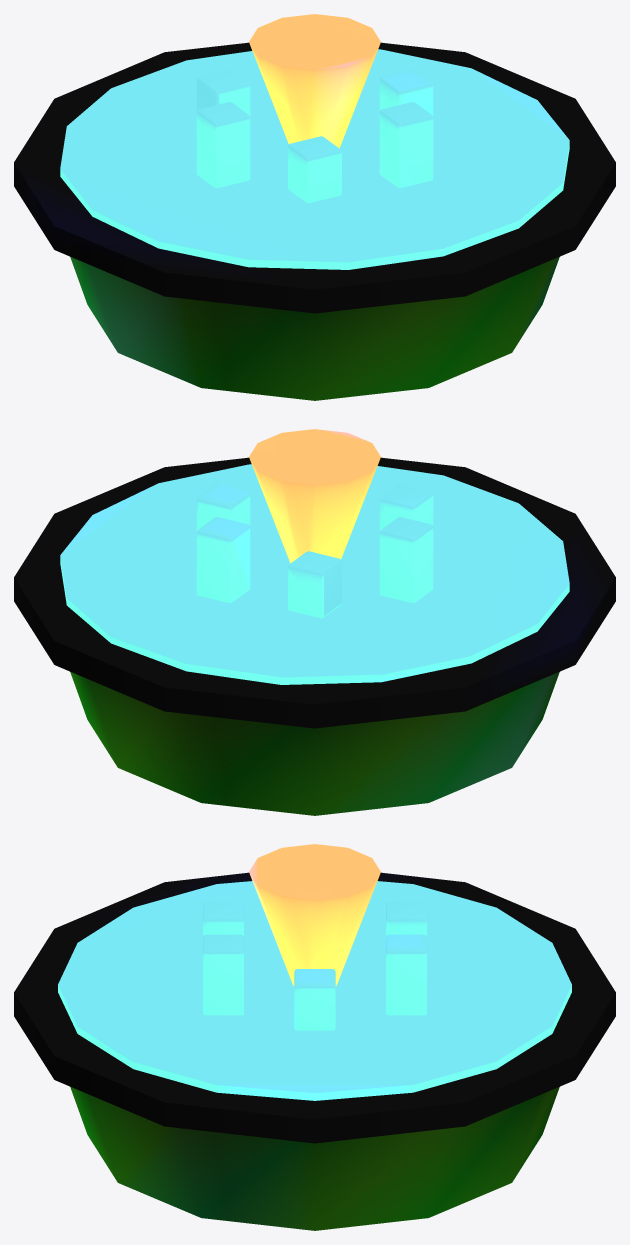
File: hero_holo_map_table.glb
The picture shows the model from 3 angles, top to bottom: view 1: azimuth 30°, elevation 25°; view 2: azimuth 150°, elevation 25°; view 3: azimuth 270°, elevation 25°; orthographic projection.
Visible parts, largest first — view 1: HeroHoloMapTable; view 2: HeroHoloMapTable; view 3: HeroHoloMapTable.
Part boxes in pixels (<box>): HeroHoloMapTable: <box>14,14,615,400</box>; HeroHoloMapTable: <box>14,429,615,815</box>; HeroHoloMapTable: <box>14,844,615,1230</box>.
Size of the model in its own units: 4.1 by 1.98 by 4.1.
